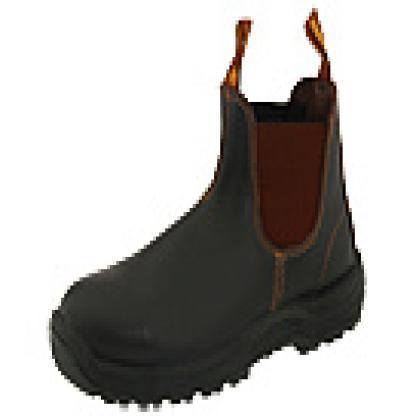bota: (45, 20, 368, 407)
